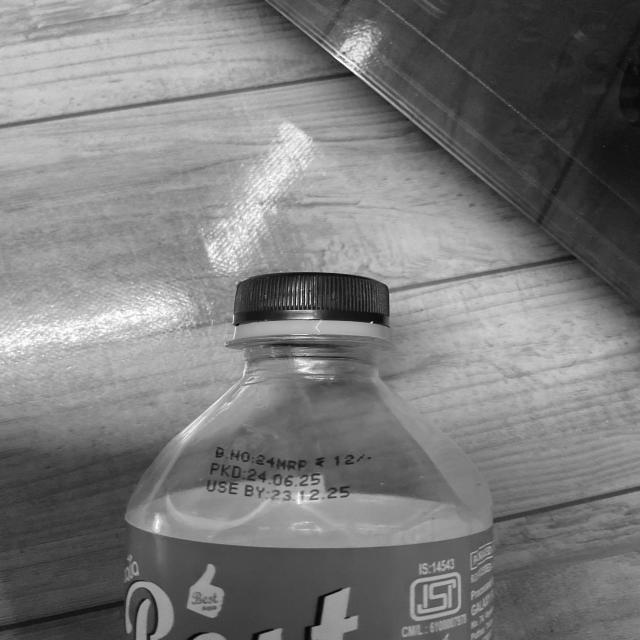Good-cap-Df0S: (228, 270, 398, 342)
